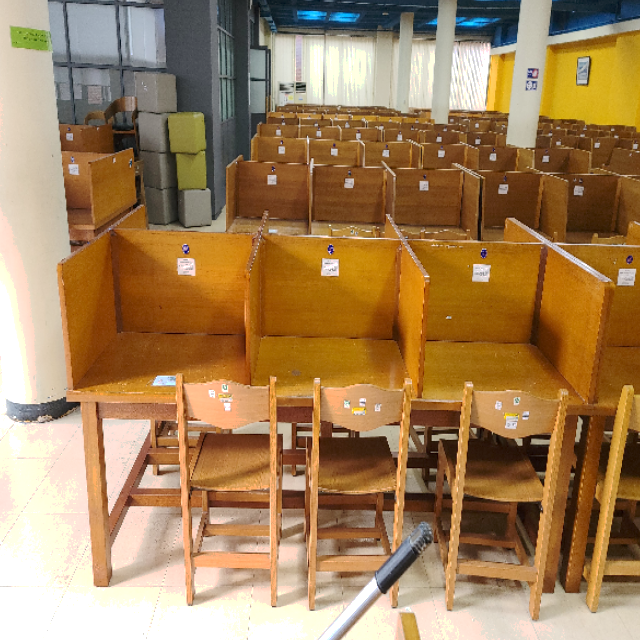empty: (62, 246, 244, 489), (424, 222, 591, 471), (252, 235, 418, 481)
